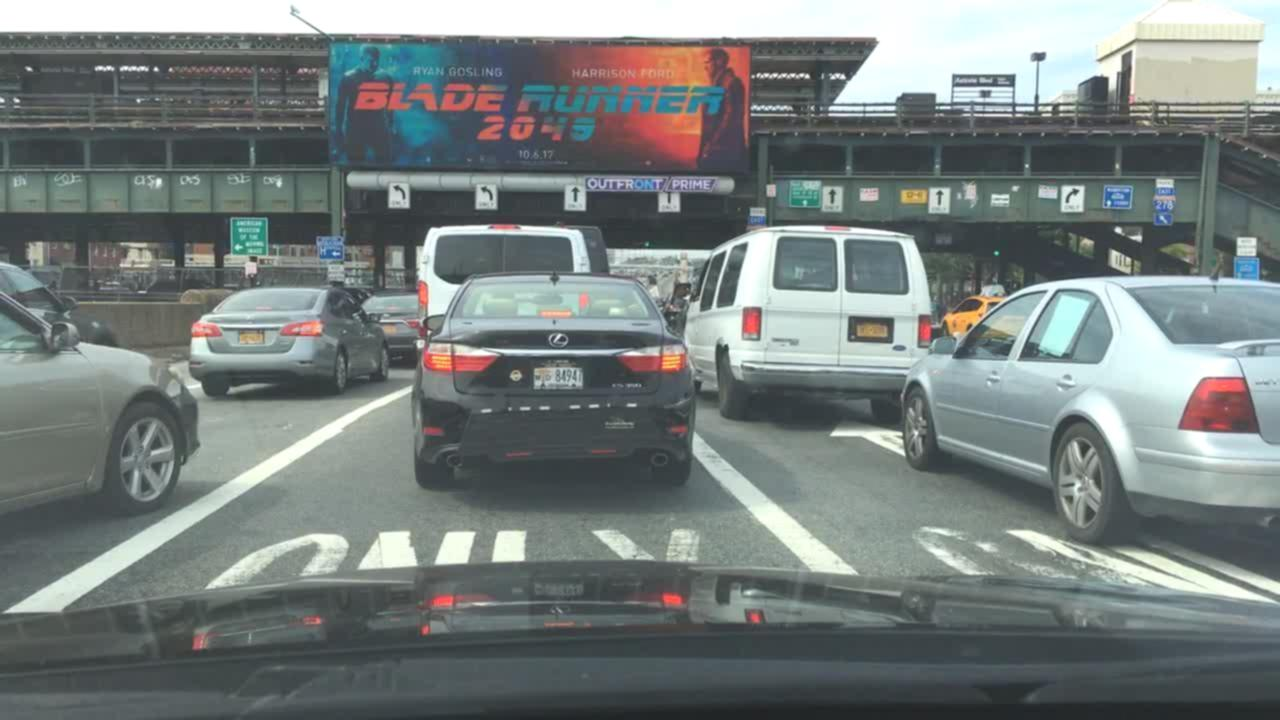ford: (892, 343, 909, 354)
lexus: (541, 327, 574, 352)
